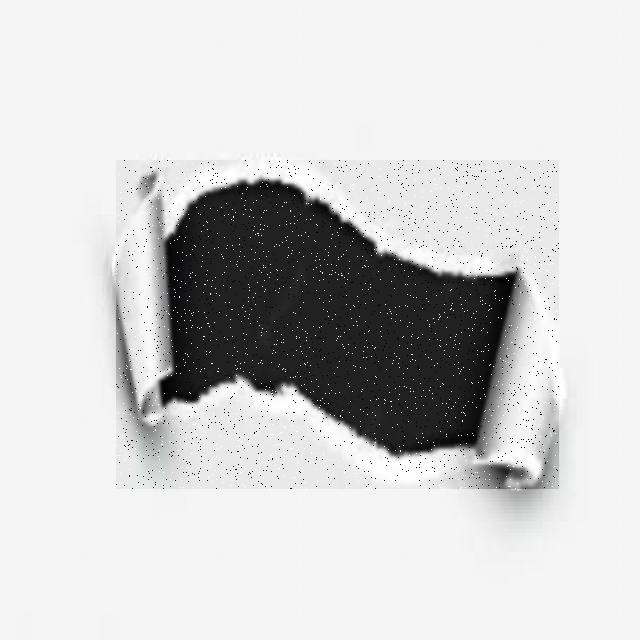tear: (116, 160, 559, 489)
